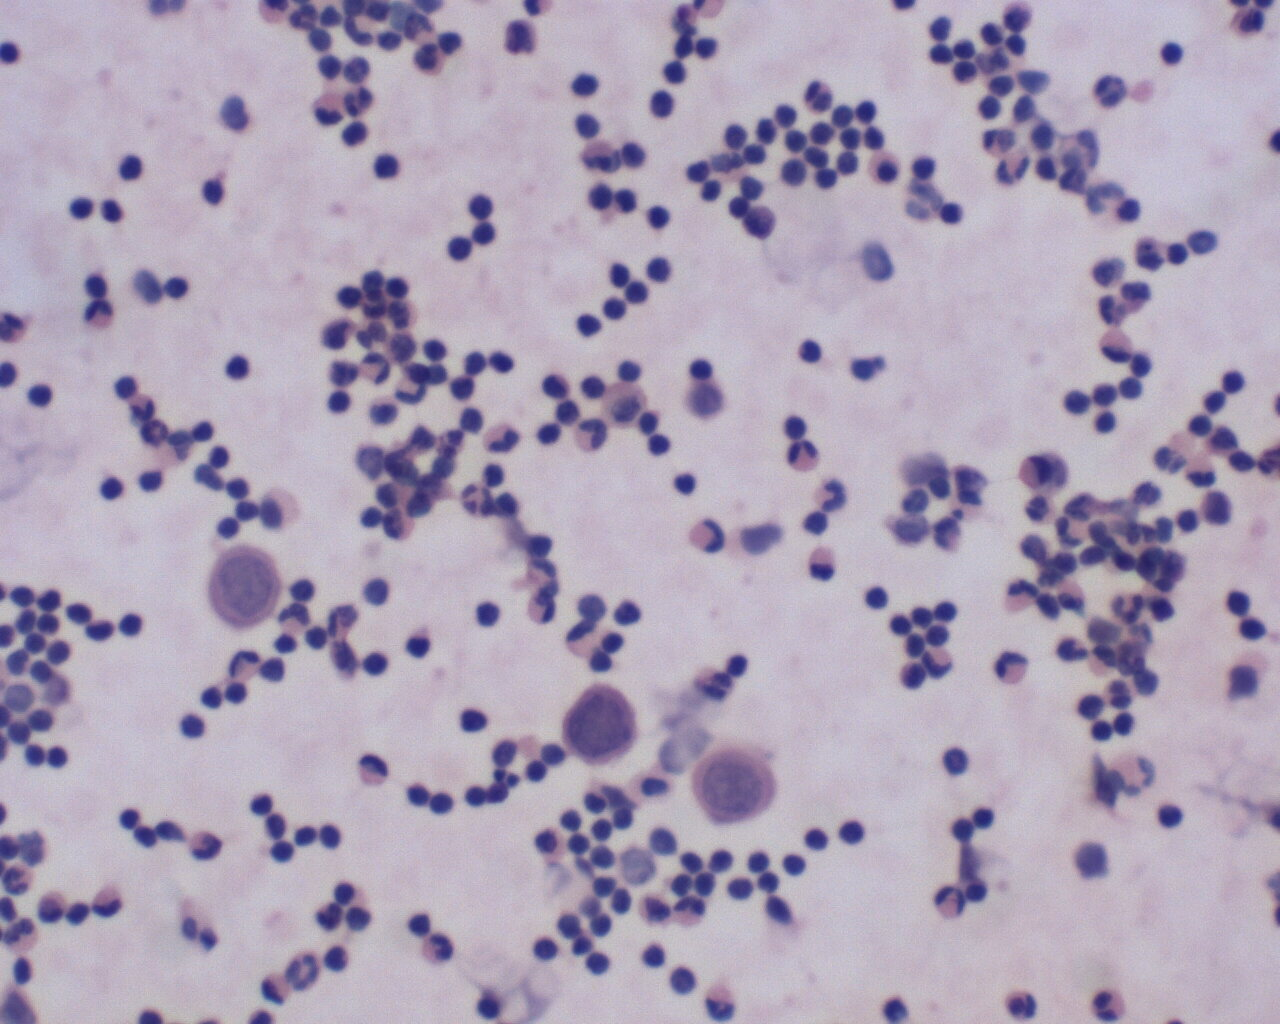ab: (686, 743, 779, 829), (206, 541, 286, 631), (560, 681, 637, 772)
lymph: (834, 815, 872, 853), (440, 231, 478, 269), (176, 707, 214, 744), (938, 742, 973, 778), (222, 349, 255, 385), (113, 152, 147, 185), (680, 353, 717, 385), (473, 597, 506, 631), (574, 304, 605, 340), (370, 150, 402, 182), (726, 875, 759, 905), (645, 199, 671, 231)
neutro: (702, 981, 747, 1024), (990, 647, 1035, 689), (812, 471, 854, 516), (1106, 587, 1149, 629), (417, 927, 460, 967), (187, 825, 224, 862)
